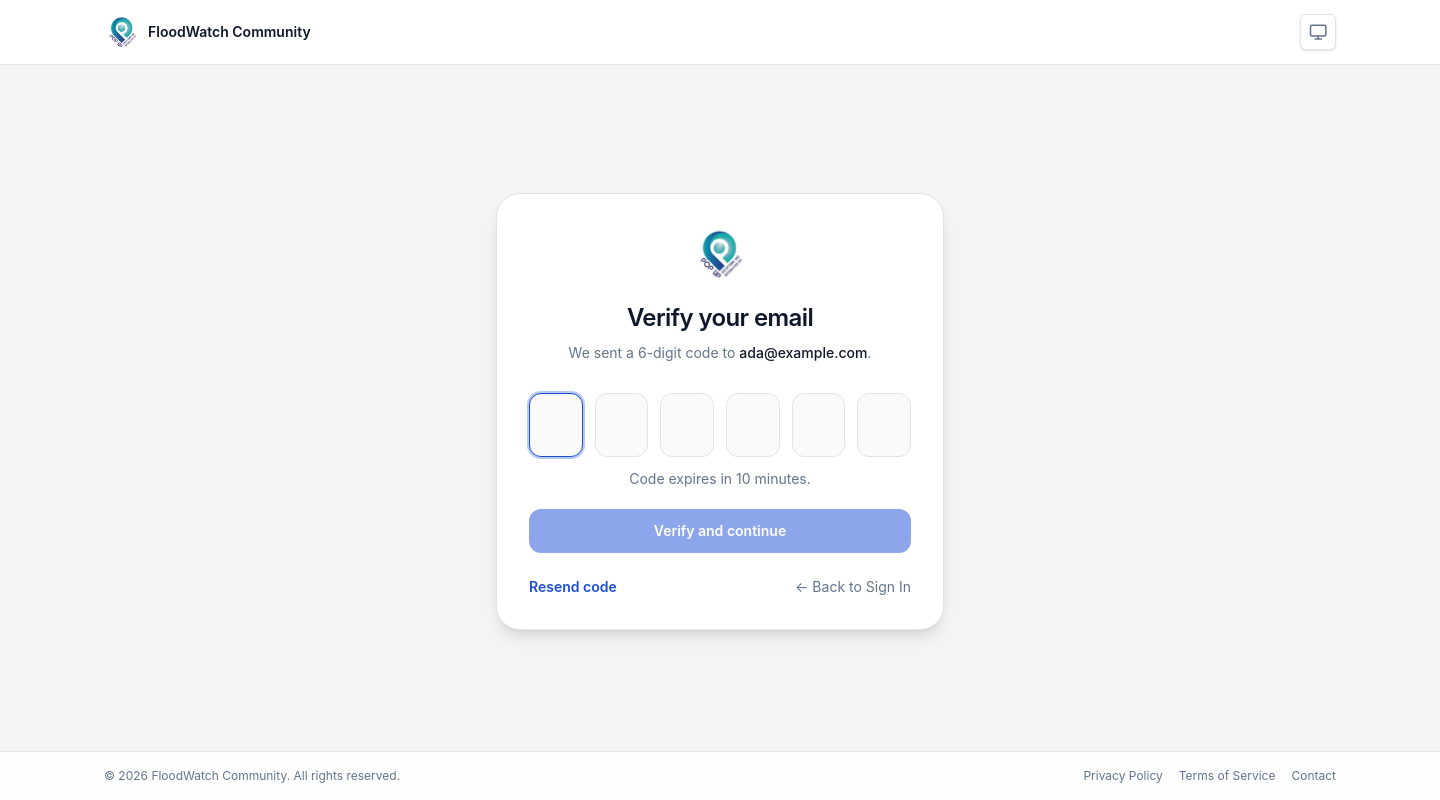
Community · verify email › resends a fresh verification code
This screenshot has width=1440, height=800.
Click the button with test id "verify-resend" at {"x": 573, "y": 587}, box [529,577,617,597]
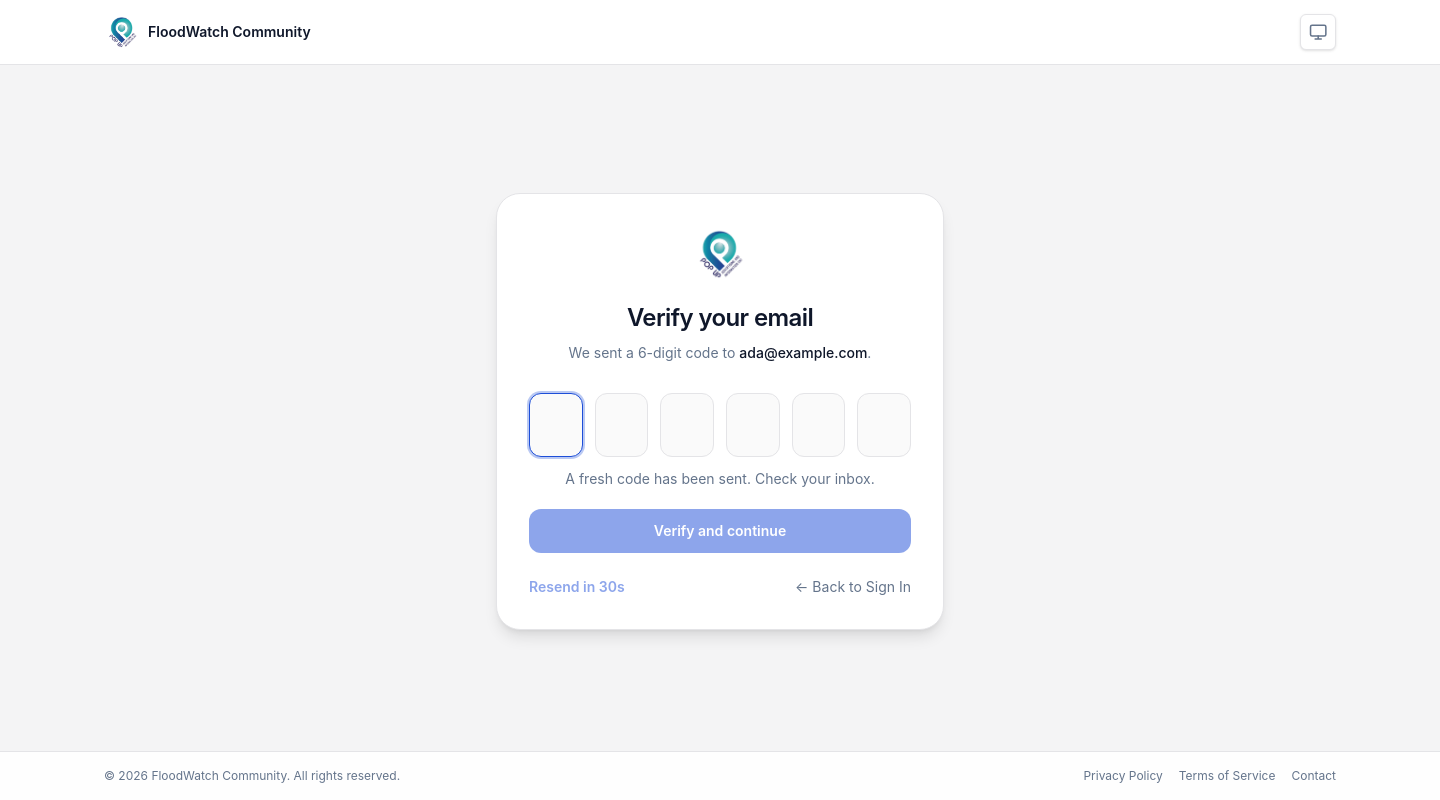
Check: the text "A fresh code has been sent" is shown, box [565,470,874,487]
Check: the button with test id "verify-resend" is disabled, box [529,577,625,597]
